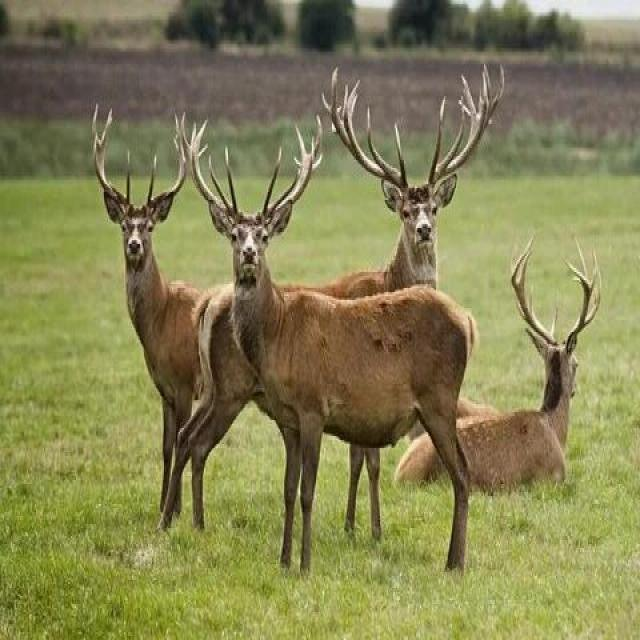deer: (225, 196, 501, 511), (70, 112, 218, 371), (332, 87, 476, 310), (500, 304, 590, 492)
